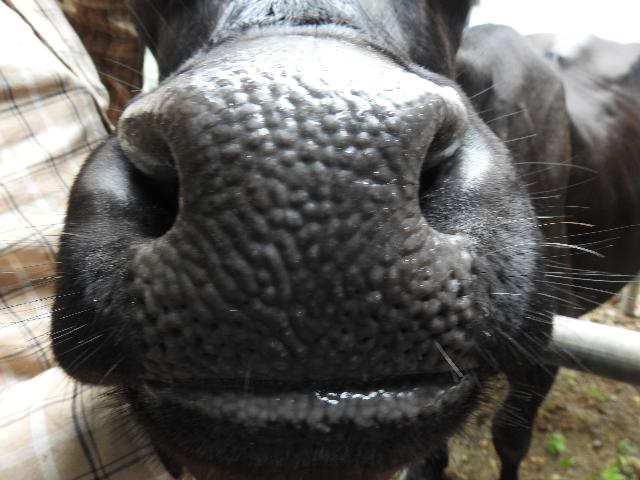Muzzle: (162, 76, 436, 366)
